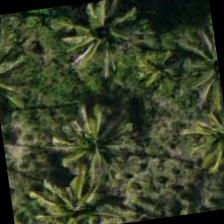Kelapa_Sawit: (112, 16, 214, 118), (36, 94, 138, 196), (41, 0, 143, 93), (20, 151, 120, 223), (174, 88, 223, 185)
